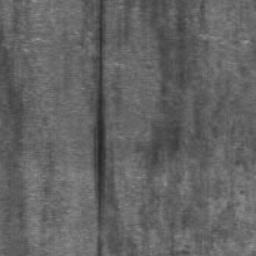Scratches: (93, 0, 106, 256)
